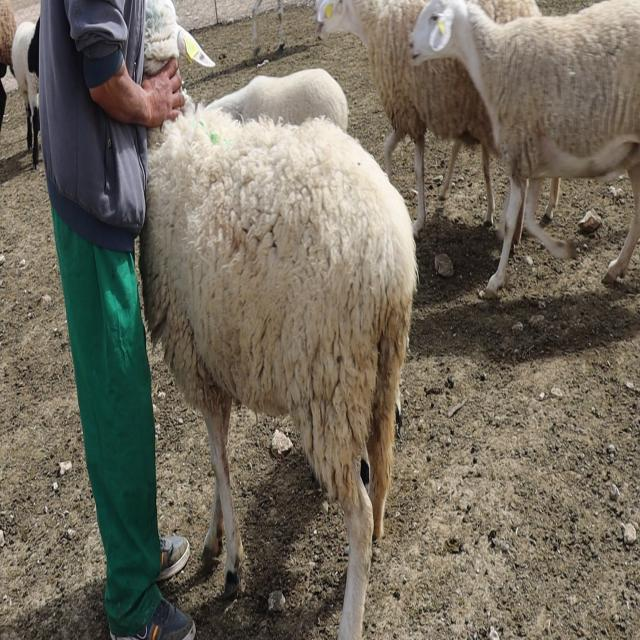Score_4: (139, 103, 417, 639)
